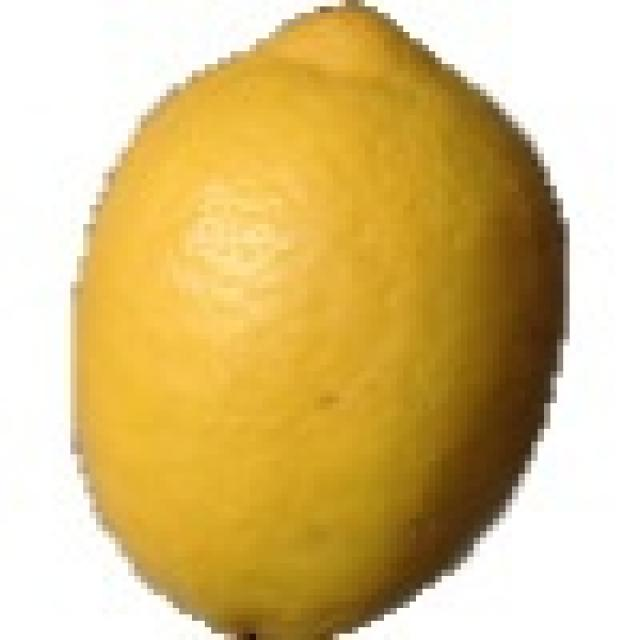lemon: (50, 0, 608, 640)
